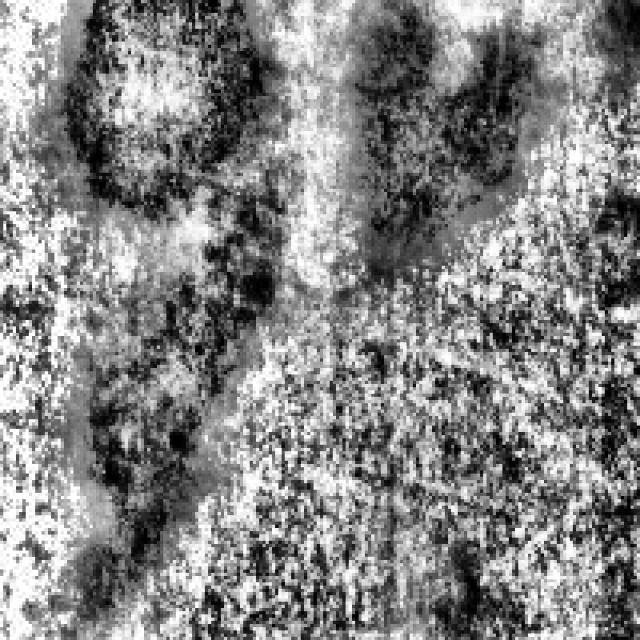Scratches: (74, 268, 278, 612), (349, 0, 560, 250), (61, 0, 272, 221)
